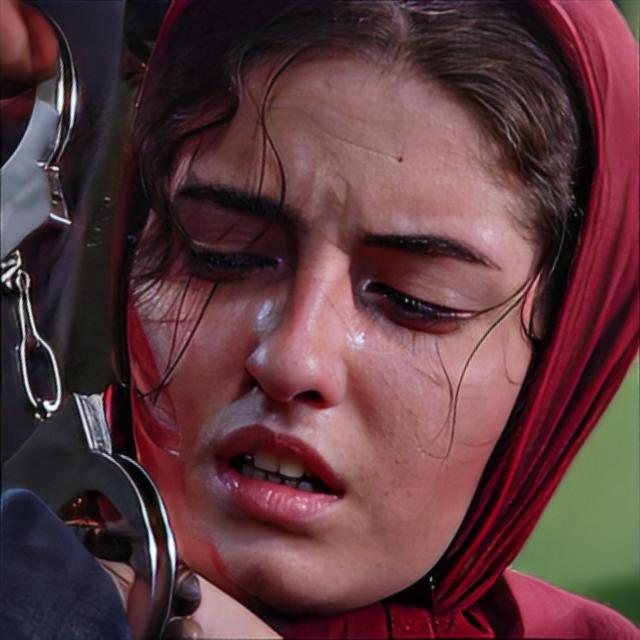sad: (145, 68, 548, 612)
